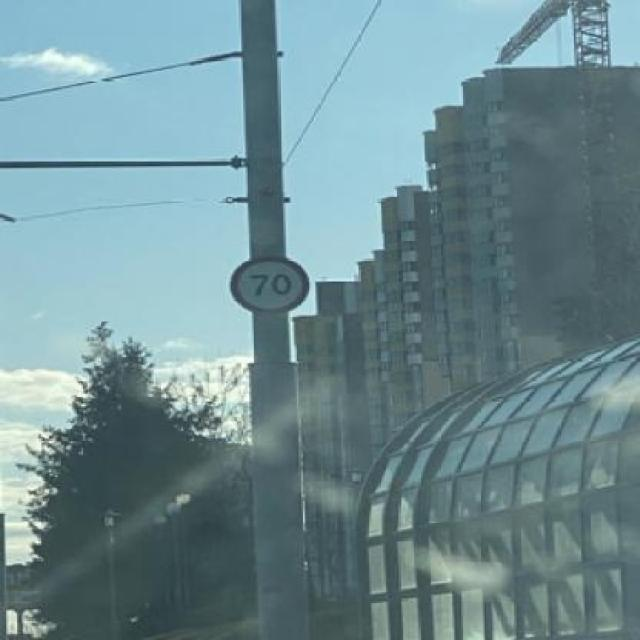forb_speed_over_70: (230, 255, 307, 314)
